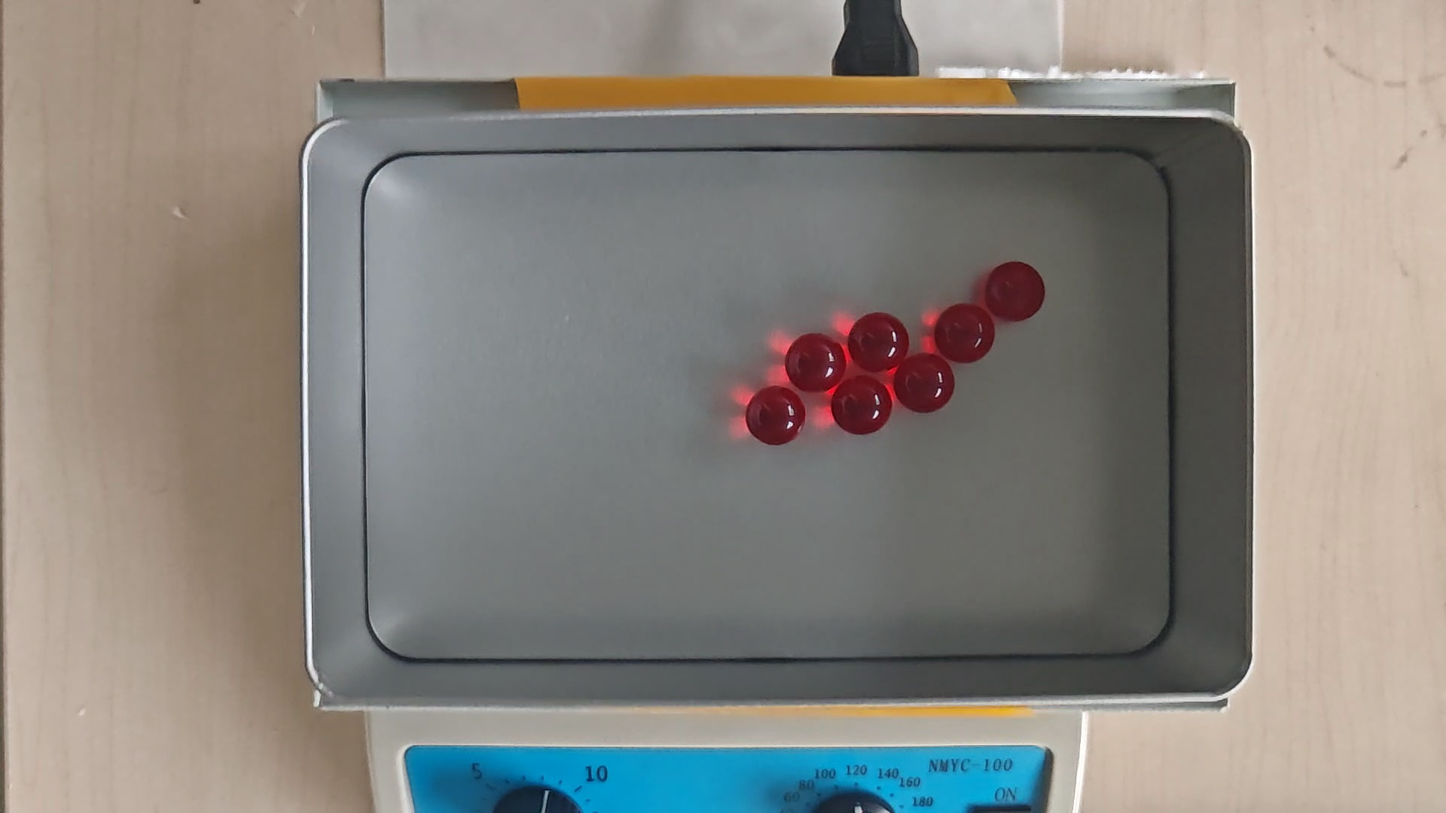ball: (984, 261, 1044, 321), (895, 354, 953, 416), (936, 303, 995, 362), (851, 312, 907, 374), (834, 373, 889, 436), (747, 385, 803, 446), (788, 334, 844, 394)
container: (358, 146, 1172, 658)
